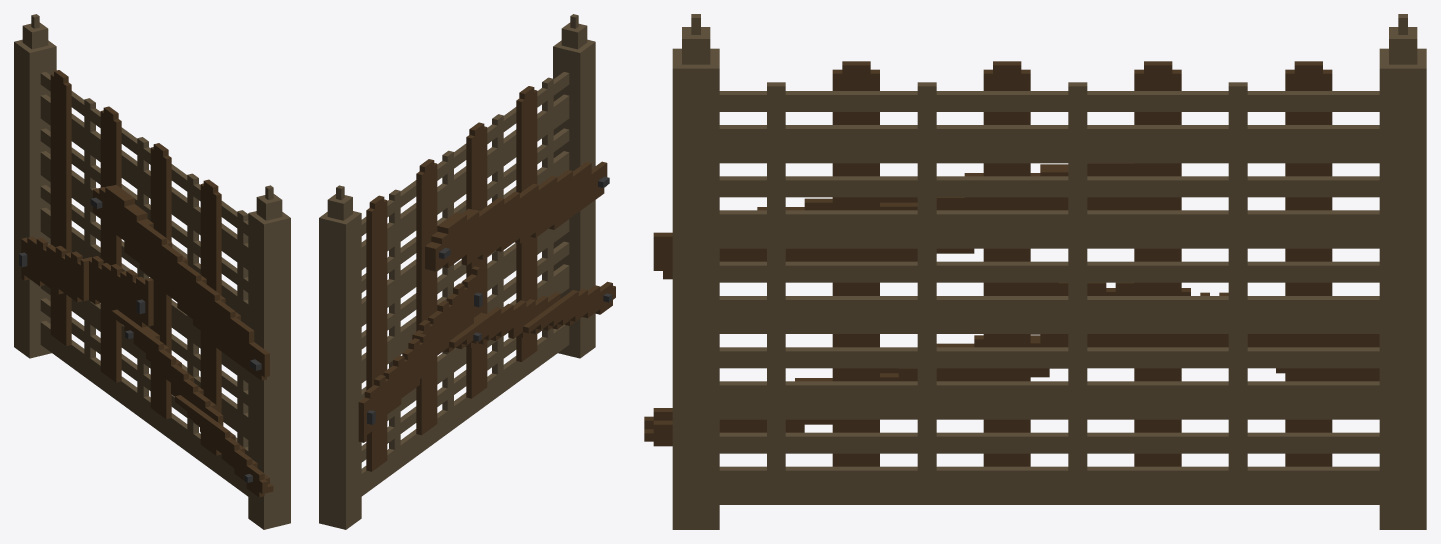
The model's file is Background_A_door_02.FBX.
The picture shows the model from 3 angles, left to right: view 1: azimuth 30°, elevation 25°; view 2: azimuth 150°, elevation 25°; view 3: azimuth 270°, elevation 25°; orthographic projection. The views are drawn at different scales.
Parts seen in each view (by area): view 1: Load_A-0; view 2: Load_A-0; view 3: Load_A-0.
Part boxes in pixels (x1,y1,x2,y2): Load_A-0: [14, 14, 290, 529]; Load_A-0: [319, 14, 615, 529]; Load_A-0: [644, 14, 1426, 529].
Bounding box in the file's own units: 0.8 × 5.9 × 8.3.
Materials: 1 (1 with a texture image).
